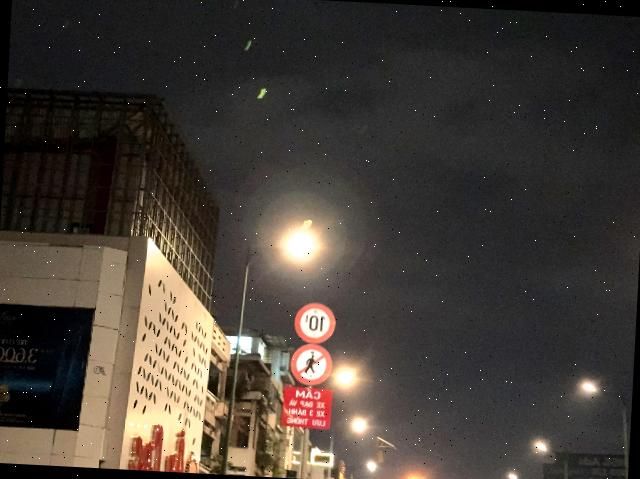cam-nguoi-di-bo: (290, 343, 334, 387)
han-che-trong-luong-xe: (292, 302, 337, 346)
